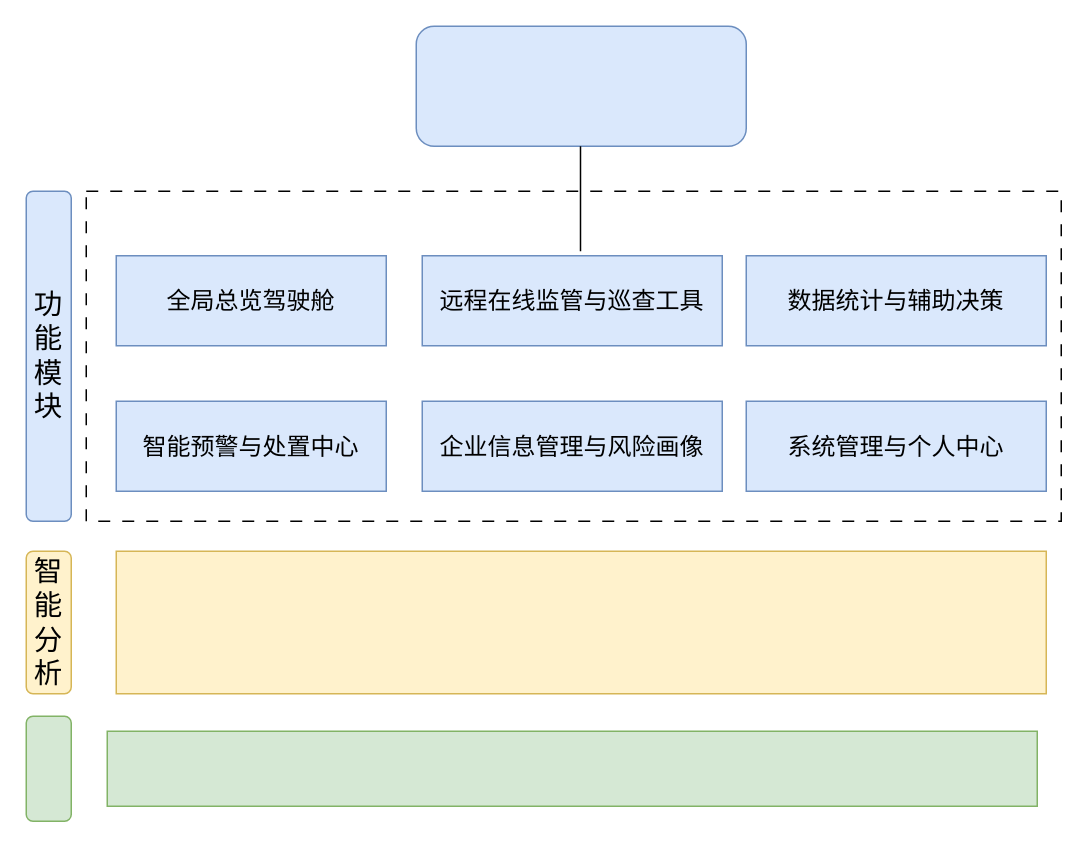
The diagram is 1088 pixels wide and 848 high, and some of its shapes have lost their labels. Here are the shapes that lost their labels. From the top down, the centre of each, then its label:
(x=580, y=85): 烟花爆竹安全生产预警系统
(x=580, y=622): AI识别引擎 │ 物联感知 │ GIS服务 │ 消息推送
(x=48, y=768): 数据
(x=571, y=768): 企业端数据接入 │ 视频流接入 │ 传感数据接入 │ 门禁接入
